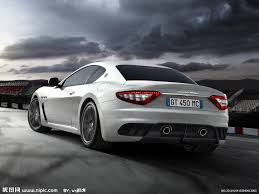car: (25, 60, 230, 157)
